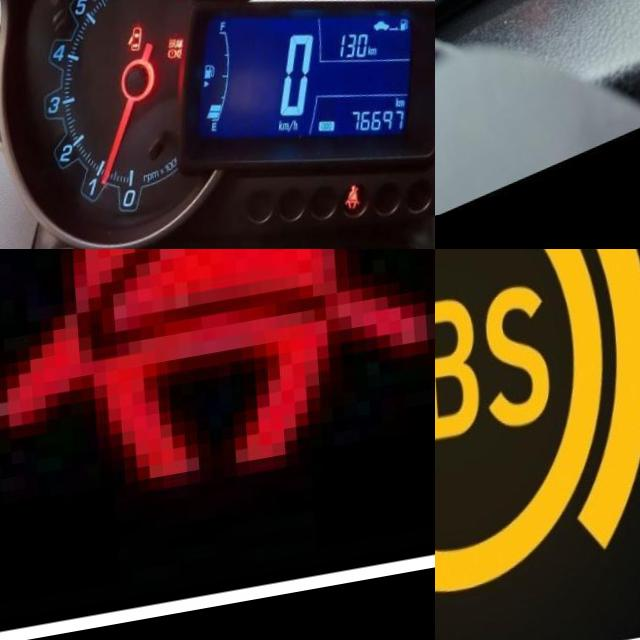Doors: (120, 32, 138, 61)
